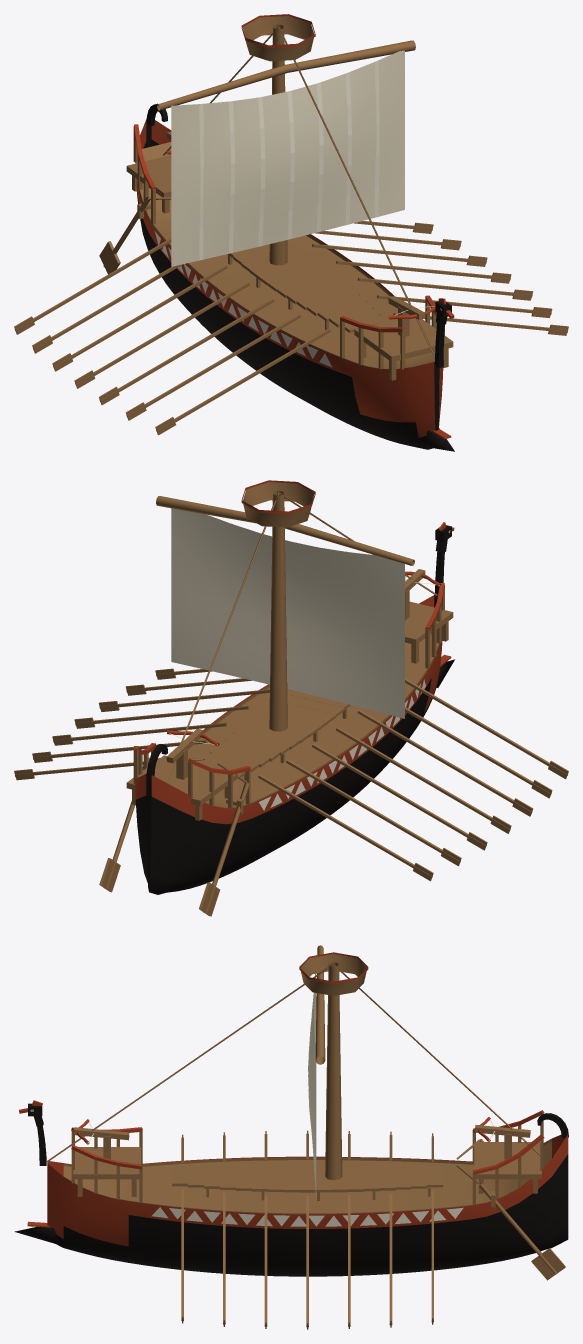
The model's file is ship_shipkiller_blockout_LOD0.obj.
The picture shows the model from 3 angles, top to bottom: view 1: azimuth 30°, elevation 25°; view 2: azimuth 150°, elevation 25°; view 3: azimuth 270°, elevation 25°; orthographic projection. The views are drawn at different scales.
Parts seen in each view (by area): view 1: ship_shipkiller_blockout_LOD0; view 2: ship_shipkiller_blockout_LOD0; view 3: ship_shipkiller_blockout_LOD0.
Part boxes in pixels (box(x1,y1,x2,y2)): ship_shipkiller_blockout_LOD0: box(14, 14, 568, 451); ship_shipkiller_blockout_LOD0: box(14, 480, 568, 916); ship_shipkiller_blockout_LOD0: box(14, 945, 568, 1329).
Size of the model in its own units: 16.45 by 12.18 by 20.03.
